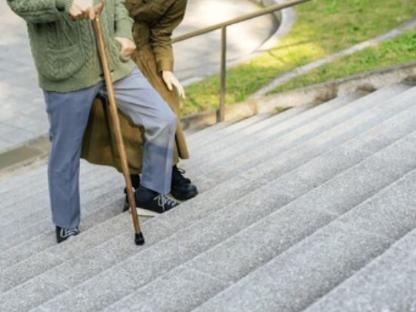stair: (108, 108, 415, 312)
